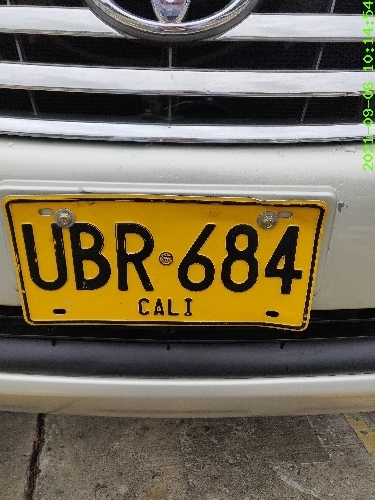number_plate: (6, 194, 328, 330)
